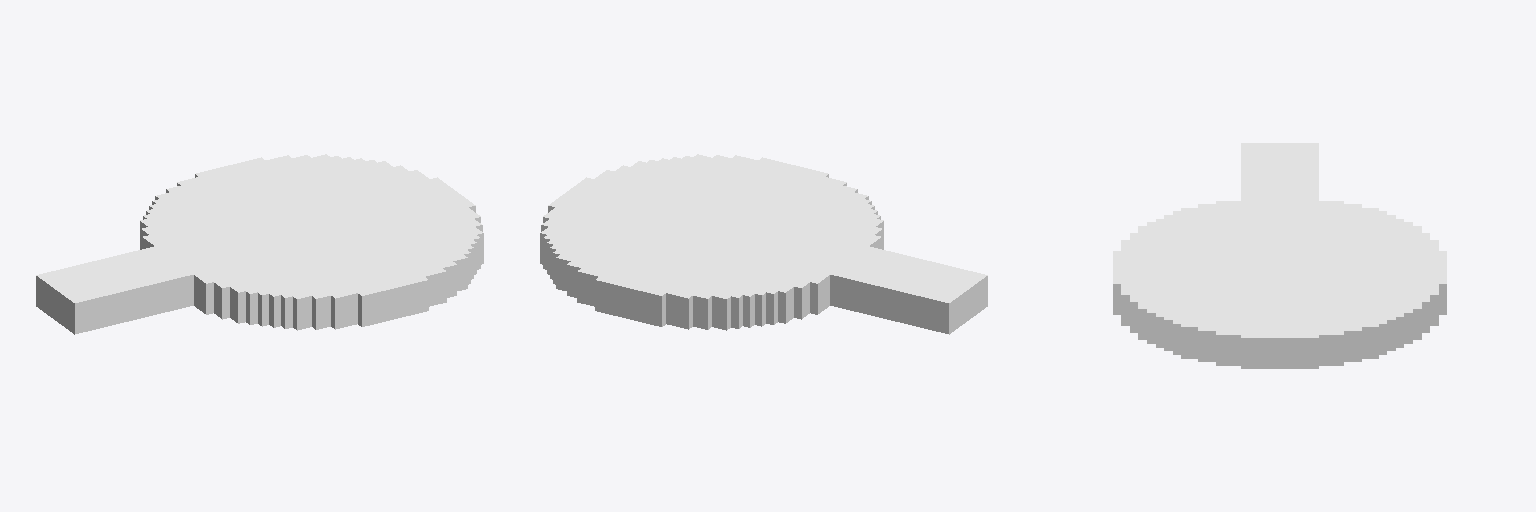
File: target.obj
The picture shows the model from 3 angles: view 1: azimuth 30°, elevation 25°; view 2: azimuth 150°, elevation 25°; view 3: azimuth 270°, elevation 25°; orthographic projection.
Size of the model in its own units: 54 by 4 by 39.